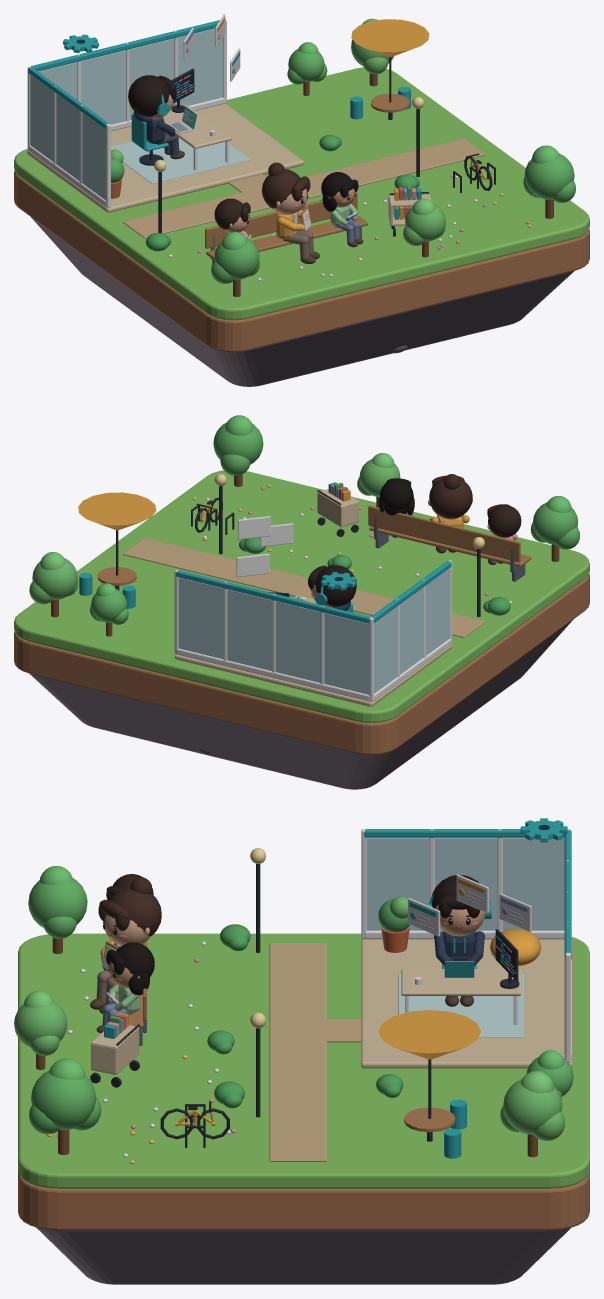
Rendered from diorama-aplikasi.glb.
The picture shows the model from 3 angles, top to bottom: view 1: azimuth 30°, elevation 25°; view 2: azimuth 150°, elevation 25°; view 3: azimuth 270°, elevation 25°; orthographic projection. The views are drawn at different scales.
Parts seen in each view (by area): view 1: Static, Char_Psychologist.001, Char_Programmer.001, Char_Kid2.001, Char_Kid1.001, Spin_Cog.001; view 2: Static, Char_Psychologist.001, Char_Programmer.001, Char_Kid2.001, Char_Kid1.001, Float_Card3.001, Float_Card2.001, Float_Card1.001, Spin_Cog.001; view 3: Static, Char_Psychologist.001, Char_Programmer.001, Char_Kid2.001, Float_Card1.001, Float_Card3.001, Float_Card2.001, Spin_Cog.001.
Part boxes in pixels (left/top/right/bottom): Static: left=14, top=18, right=589, bottom=386; Char_Psychologist.001: left=262, top=162, right=319, bottom=263; Char_Programmer.001: left=128, top=75, right=184, bottom=159; Char_Kid2.001: left=321, top=172, right=363, bottom=247; Char_Kid1.001: left=214, top=198, right=251, bottom=239; Spin_Cog.001: left=63, top=34, right=98, bottom=52; Static: left=14, top=415, right=589, bottom=789; Char_Psychologist.001: left=428, top=474, right=472, bottom=553; Char_Programmer.001: left=308, top=565, right=356, bottom=610; Char_Kid2.001: left=379, top=478, right=414, bottom=537; Char_Kid1.001: left=487, top=504, right=521, bottom=564; Float_Card3.001: left=236, top=553, right=269, bottom=577; Float_Card2.001: left=238, top=516, right=270, bottom=539; Float_Card1.001: left=260, top=523, right=293, bottom=546; Spin_Cog.001: left=321, top=572, right=356, bottom=590; Static: left=14, top=829, right=589, bottom=1284; Char_Psychologist.001: left=90, top=877, right=161, bottom=1013; Char_Programmer.001: left=427, top=875, right=491, bottom=1006; Char_Kid2.001: left=96, top=942, right=154, bottom=1033; Float_Card1.001: left=408, top=898, right=440, bottom=936; Float_Card3.001: left=499, top=893, right=531, bottom=931; Float_Card2.001: left=456, top=874, right=488, bottom=912; Spin_Cog.001: left=520, top=818, right=567, bottom=842.
Bounding box in the file's own units: 10 × 5.96 × 10.07.
